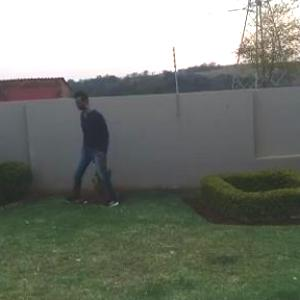follow: (81, 90, 117, 206)
